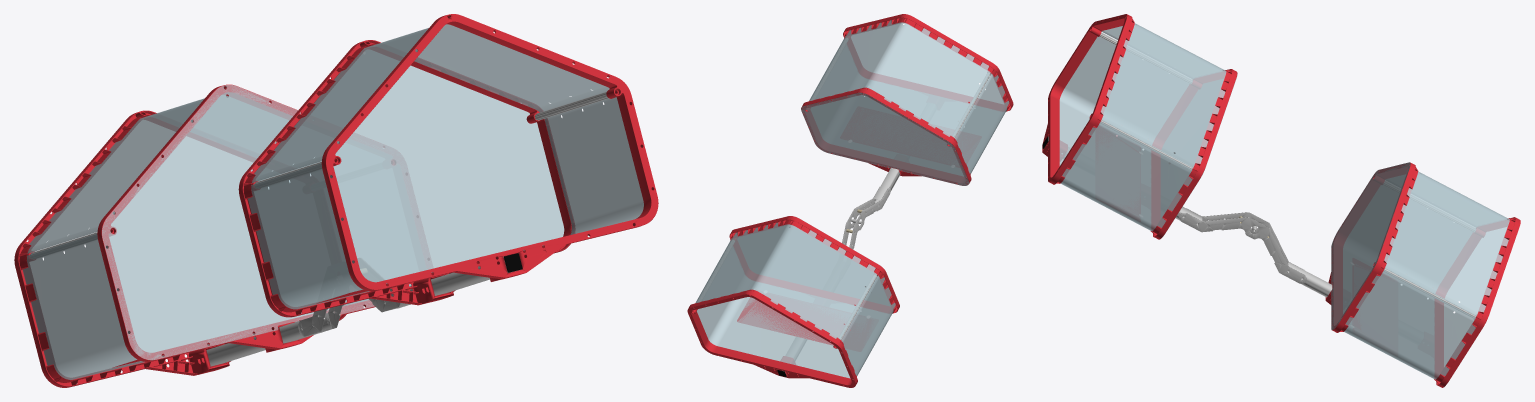
The model's file is hive-red.glb.
3 renders of one model, left to right at view 1: azimuth 30°, elevation 25°; view 2: azimuth 150°, elevation 25°; view 3: azimuth 270°, elevation 25°, orthographic. The views are drawn at different scales.
Visible parts, largest first — view 1: am-5871: Hive Goal Back Skin (×2), am-5866-red: Red Goal Rib (×4), am-5888: Hive Goal Bottom Skin (×2), am-5869: Hive Goal Top Skin (×2), am-5868: Basket Base Tube (×2), am-5873: Goal Pivot Bracket, am-5867: 10.5in Churro Lite; view 2: am-5869: Hive Goal Top Skin (×2), am-5888: Hive Goal Bottom Skin (×2), am-5871: Hive Goal Back Skin (×2), am-5866-red: Red Goal Rib (×4), am-5888-red2: Red Goal April Tag (Scoring), am-5873: Goal Pivot Bracket (×2), am-5868: Basket Base Tube; view 3: am-5888: Hive Goal Bottom Skin (×2), am-5869: Hive Goal Top Skin (×2), am-5866-red: Red Goal Rib (×4), am-5871: Hive Goal Back Skin (×2), am-5873: Goal Pivot Bracket (×2), am-5868: Basket Base Tube.
Boxes of the visible parts, x1,y1,x2,y2 form: am-5871: Hive Goal Back Skin (×2): [102, 50, 564, 360]; am-5866-red: Red Goal Rib (×4): [14, 14, 658, 387]; am-5888: Hive Goal Bottom Skin (×2): [22, 97, 643, 379]; am-5869: Hive Goal Top Skin (×2): [27, 24, 609, 253]; am-5868: Basket Base Tube (×2): [206, 256, 520, 366]; am-5873: Goal Pivot Bracket: [298, 293, 400, 336]; am-5867: 10.5in Churro Lite: [534, 91, 608, 120]; am-5869: Hive Goal Top Skin (×2): [695, 20, 990, 341]; am-5888: Hive Goal Bottom Skin (×2): [697, 38, 1009, 379]; am-5871: Hive Goal Back Skin (×2): [738, 92, 969, 305]; am-5866-red: Red Goal Rib (×4): [687, 14, 1013, 387]; am-5888-red2: Red Goal April Tag (Scoring): [737, 298, 850, 345]; am-5873: Goal Pivot Bracket (×2): [842, 187, 890, 249]; am-5868: Basket Base Tube: [873, 167, 900, 203]; am-5888: Hive Goal Bottom Skin (×2): [1059, 32, 1475, 379]; am-5869: Hive Goal Top Skin (×2): [1101, 23, 1509, 316]; am-5866-red: Red Goal Rib (×4): [1042, 14, 1520, 387]; am-5871: Hive Goal Back Skin (×2): [1161, 73, 1410, 329]; am-5873: Goal Pivot Bracket (×2): [1179, 208, 1306, 283]; am-5868: Basket Base Tube: [1287, 262, 1332, 297].
Bounding box in the file's own units: 533 × 898 × 1148.
